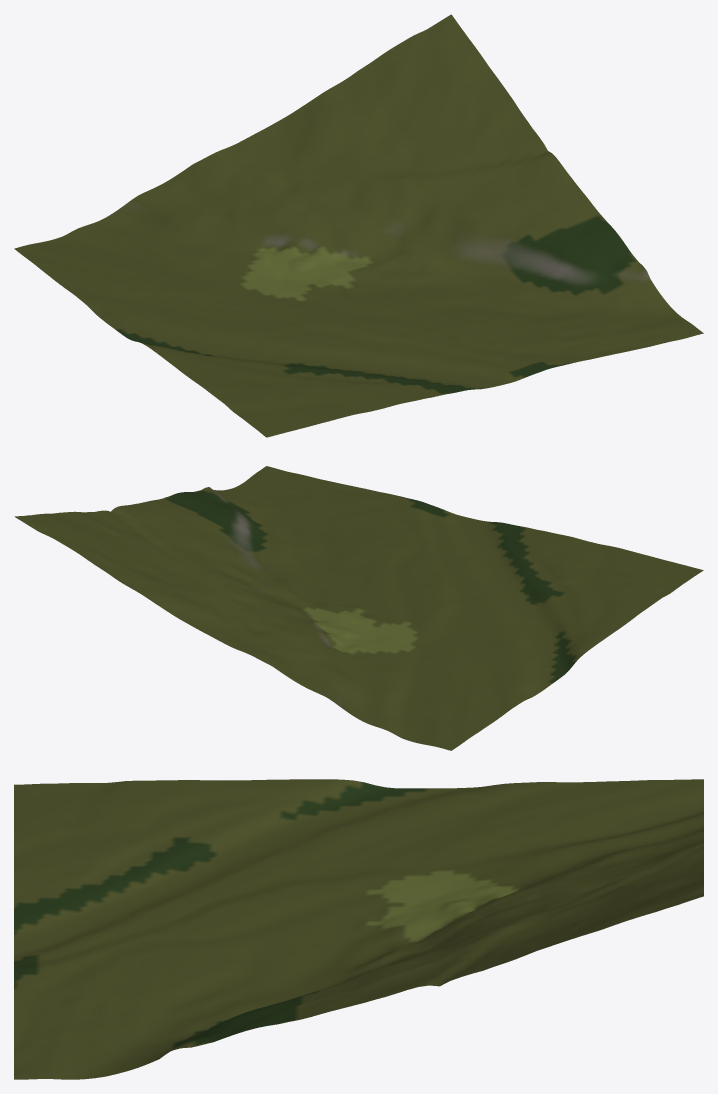
Rendered from terrain_17_-12.glb.
3 views of the same model, one above another, from view 1: azimuth 30°, elevation 25°; view 2: azimuth 150°, elevation 25°; view 3: azimuth 270°, elevation 25° (orthographic). The views are drawn at different scales.
Parts seen in each view (by area): view 1: terrain_17_-12; view 2: terrain_17_-12; view 3: terrain_17_-12.
Boxes of the visible parts, bbox=[...] form: terrain_17_-12: bbox=[14, 14, 703, 437]; terrain_17_-12: bbox=[14, 466, 703, 750]; terrain_17_-12: bbox=[14, 779, 703, 1079].
Bounding box in the file's own units: 256 × 76.45 × 256.
